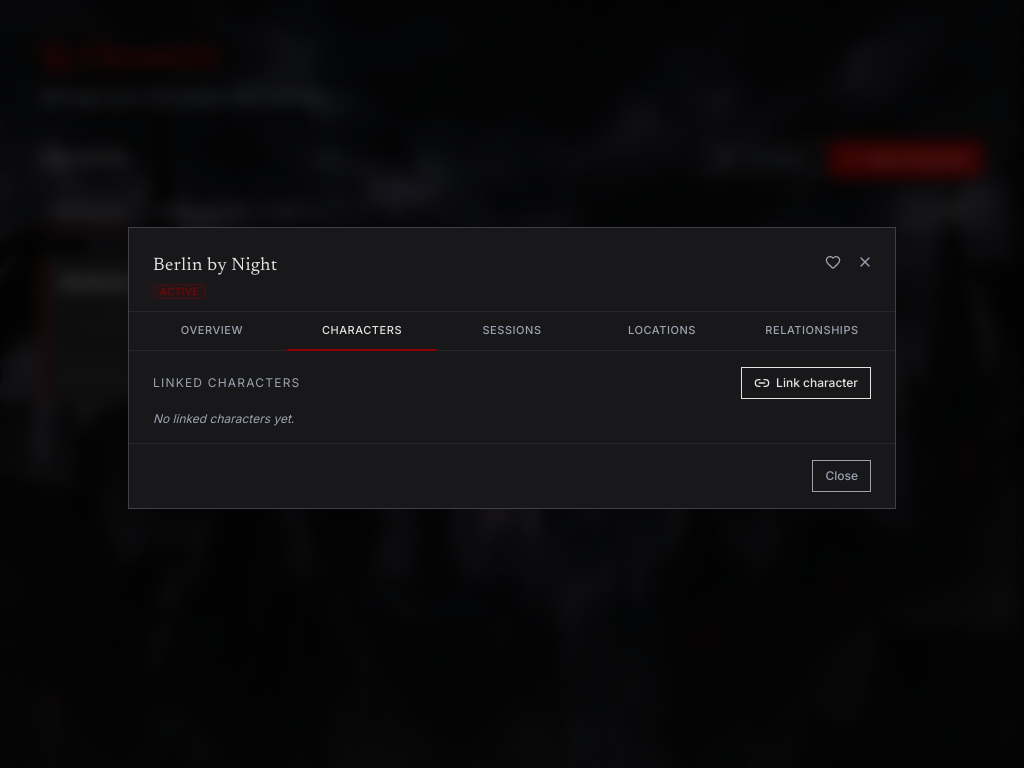
Scenario: Chronicle detail — link character flow (Batch Z) › links the selected character and shows it in the Characters tab
The image size is (1024, 768).
Expected: the text "No linked characters yet." is shown, [153, 411, 294, 426]
Step 1. Click the button "Link character" → (806, 383), box [741, 367, 871, 399]
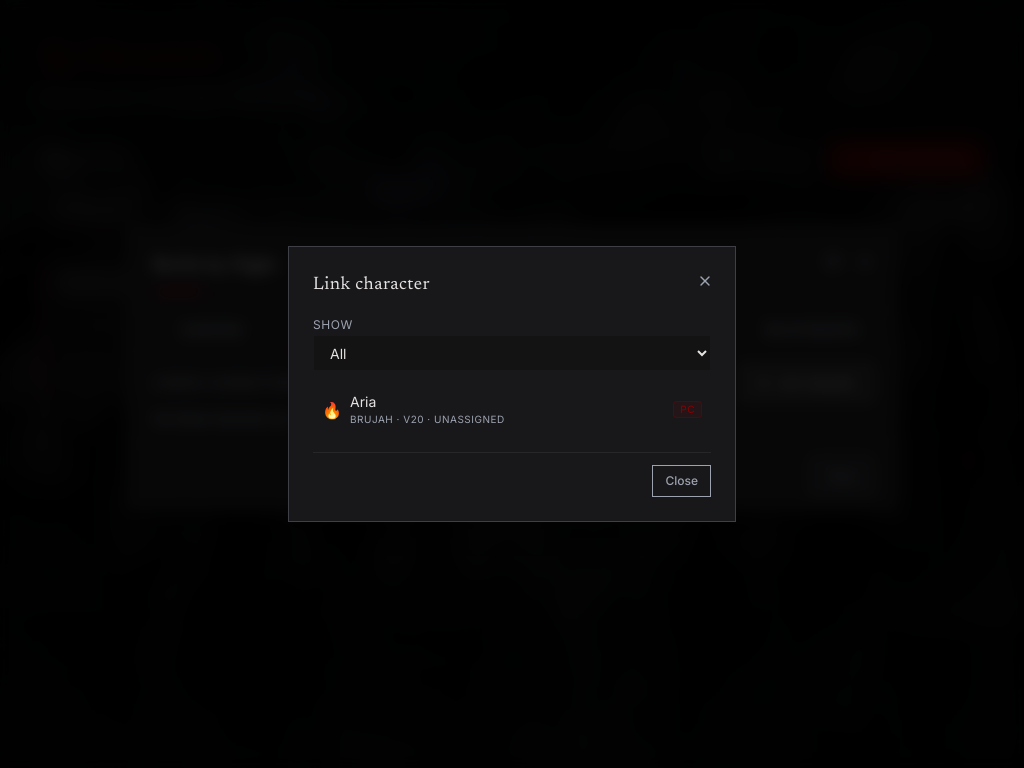
Expected: the text "Show" is shown, [313, 317, 353, 332]
Expected: the button "🔥 Aria Brujah · V20 · Unassigned PC" is shown
Step 2. Click the button "🔥 Aria Brujah · V20 · Unassigned PC" → (372, 419), box [313, 383, 711, 436]
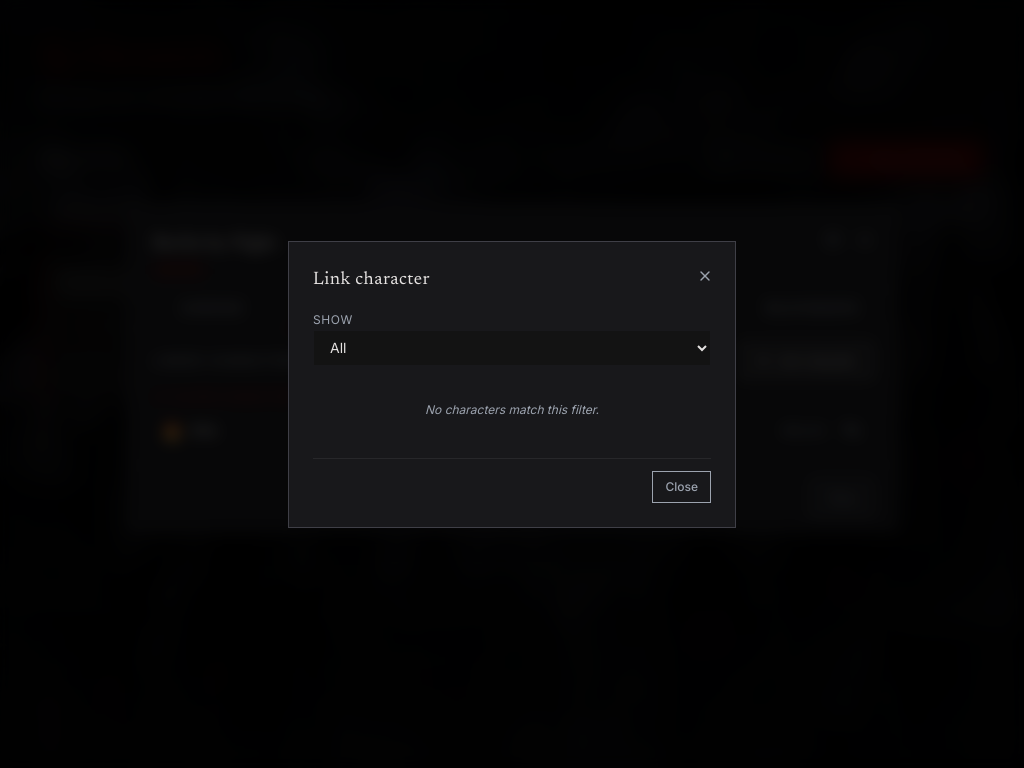
Expected: the text "No linked characters yet." is gone
